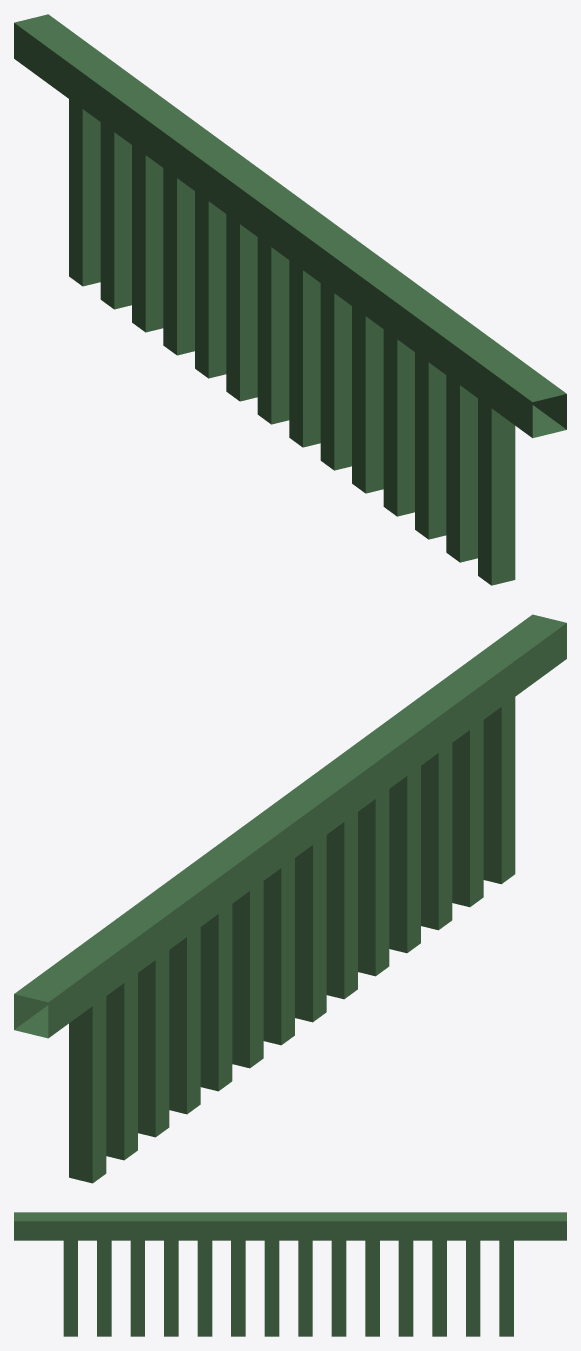
The model's file is SM_ghettofence.fbx.
The picture shows the model from 3 angles, top to bottom: view 1: azimuth 30°, elevation 25°; view 2: azimuth 150°, elevation 25°; view 3: azimuth 270°, elevation 25°; orthographic projection. The views are drawn at different scales.
Visible parts, largest first — view 1: SM_ghettofence; view 2: SM_ghettofence; view 3: SM_ghettofence.
Part boxes in pixels (left/top/right/bottom): SM_ghettofence: left=14, top=14, right=566, bottom=585; SM_ghettofence: left=14, top=614, right=566, bottom=1183; SM_ghettofence: left=14, top=1212, right=566, bottom=1336.
Bounding box in the file's own units: 2.86 × 17.37 × 74.65.
